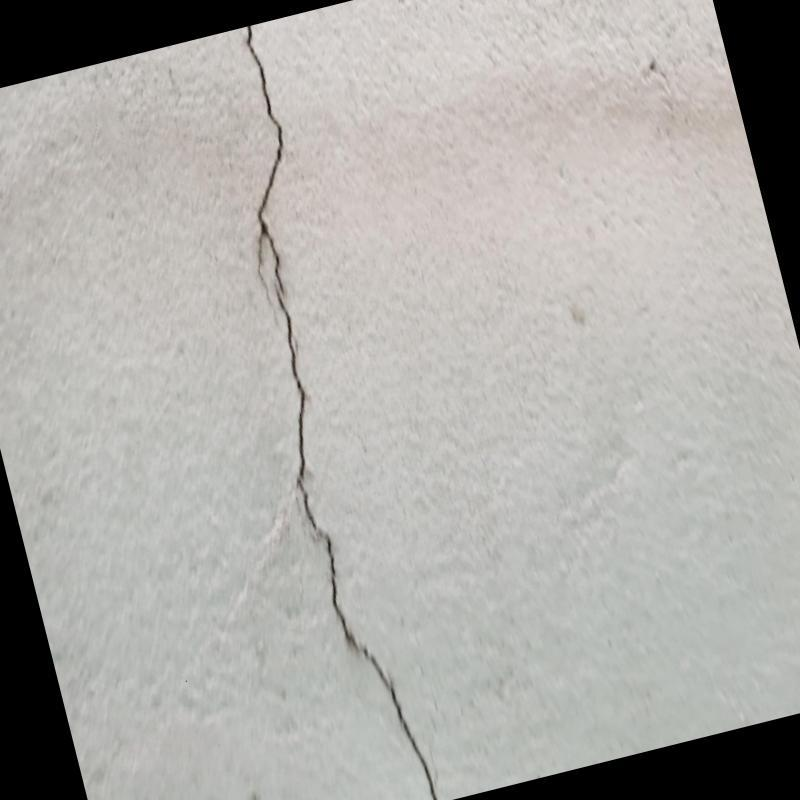crack: (246, 26, 437, 800)
